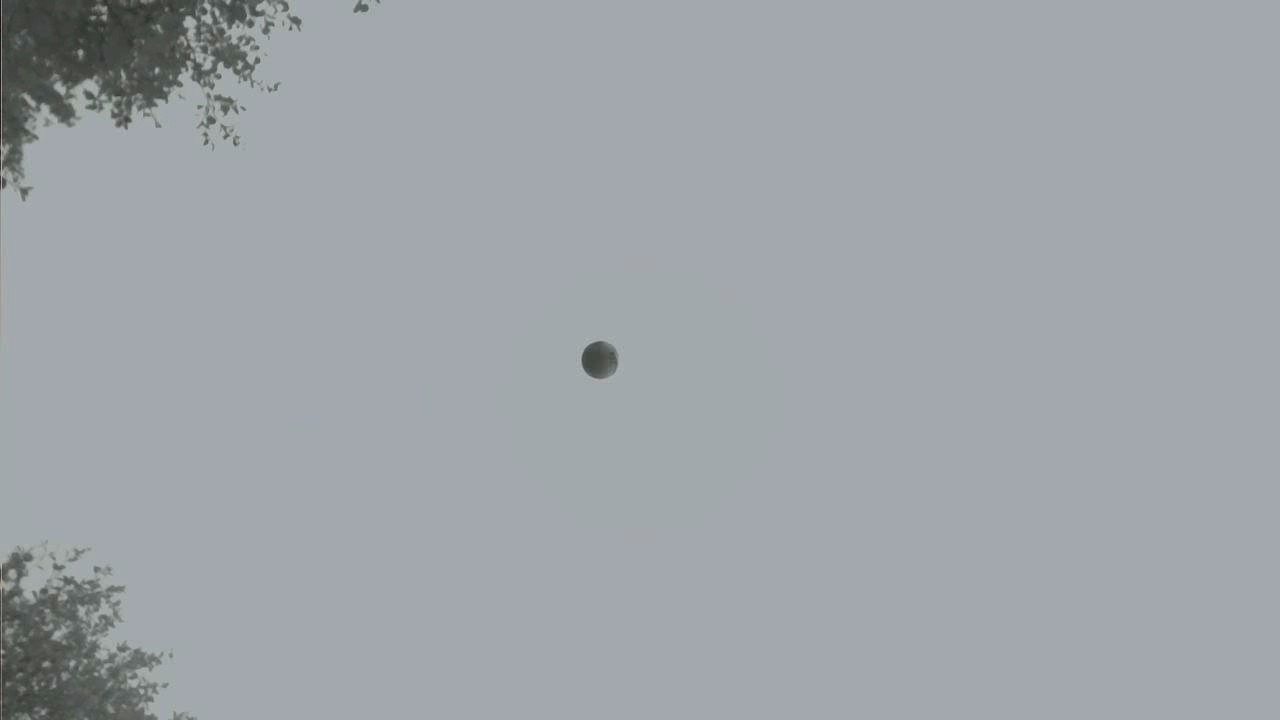Football-Spotter: (582, 341, 617, 378)
